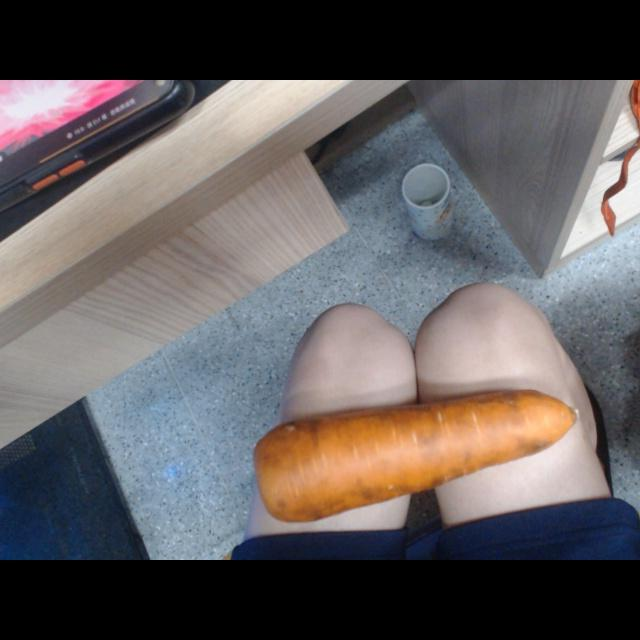carrot: (253, 388, 583, 526)
